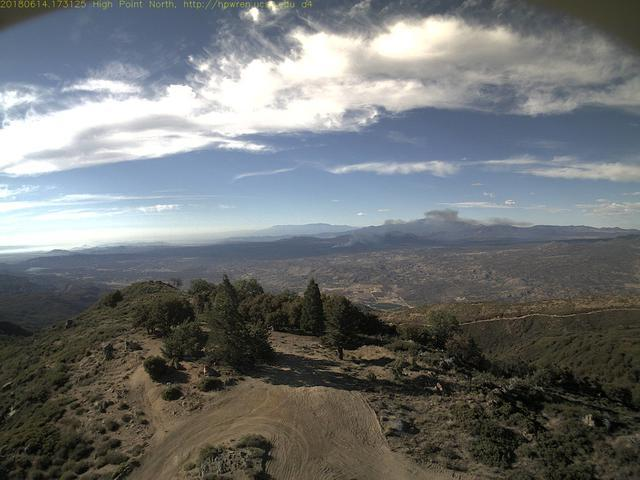smoke: (329, 205, 530, 252)
